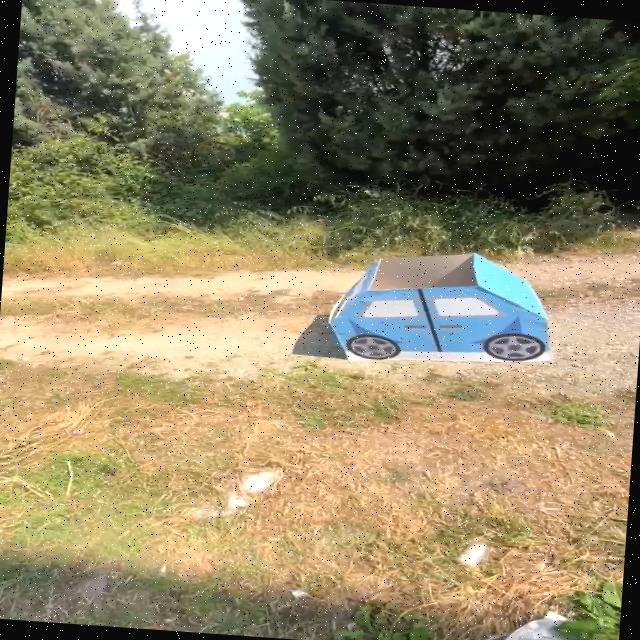blue_car: (311, 229, 584, 392)
